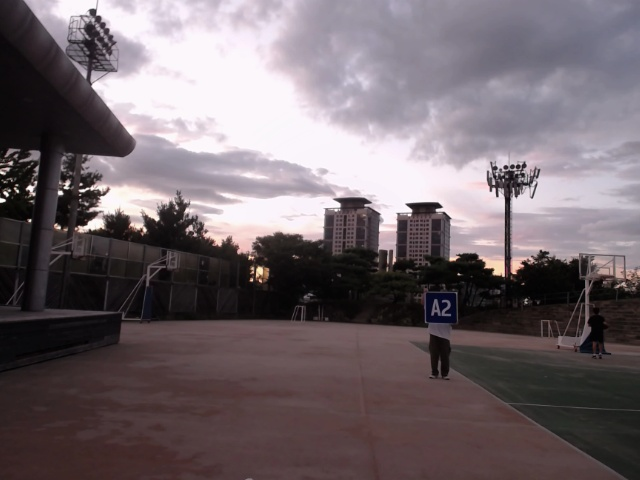delivery_a2: (425, 291, 458, 325)
